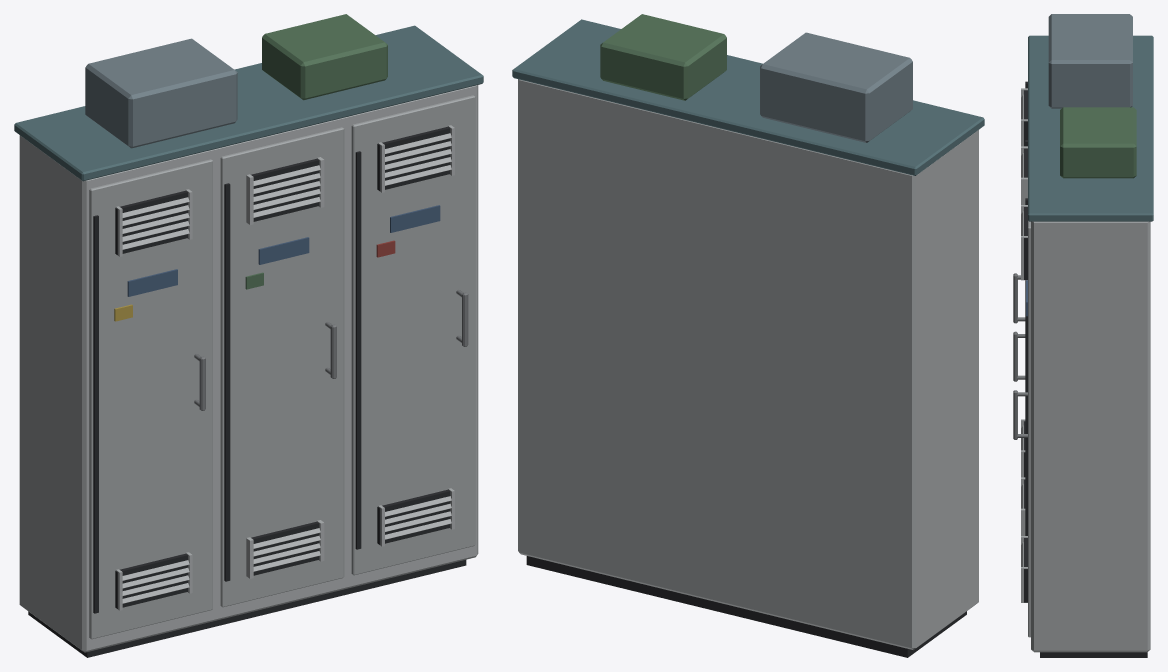
Rendered from astro_locker_bank.fbx.
The picture shows the model from 3 angles, left to right: view 1: azimuth 30°, elevation 25°; view 2: azimuth 150°, elevation 25°; view 3: azimuth 270°, elevation 25°; orthographic projection. The views are drawn at different scales.
Visible parts, largest first — view 1: LockerBank_Body; view 2: LockerBank_Body; view 3: LockerBank_Body.
Part boxes in pixels (bbox=[...]): LockerBank_Body: bbox=[14, 14, 483, 657]; LockerBank_Body: bbox=[512, 14, 984, 657]; LockerBank_Body: bbox=[1013, 14, 1153, 657].
Bounding box in the file's own units: 276 × 358 × 91.5.
